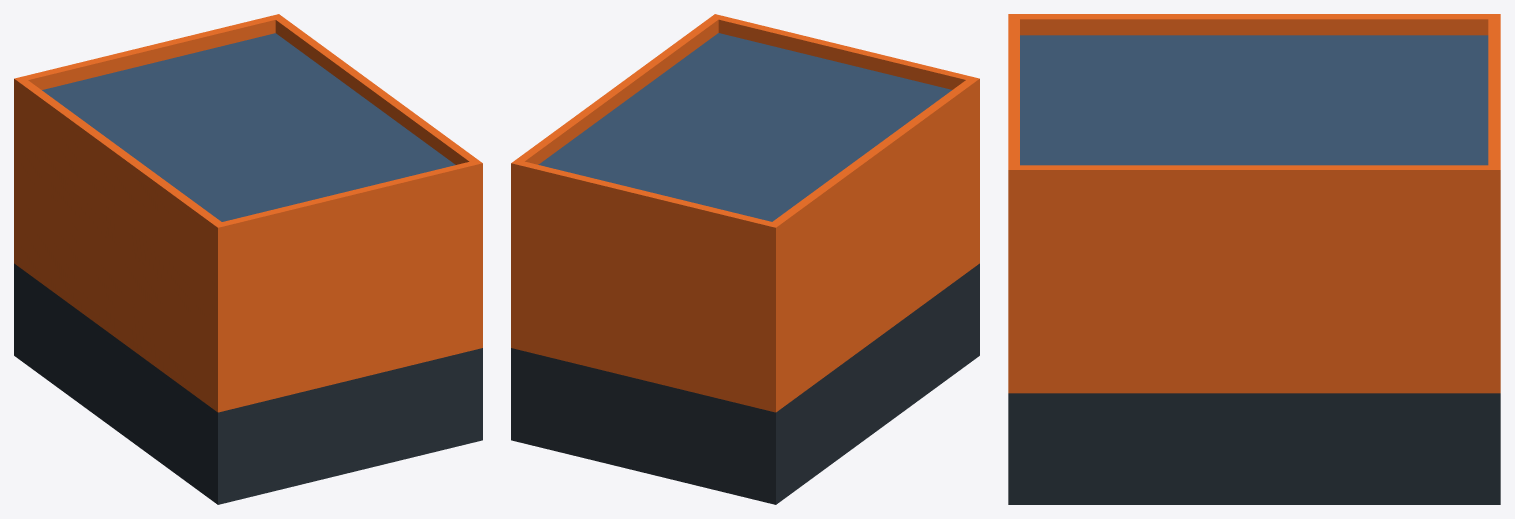
Rendered from Building_B.fbx.
3 renders of one model, left to right at view 1: azimuth 30°, elevation 25°; view 2: azimuth 150°, elevation 25°; view 3: azimuth 270°, elevation 25°, orthographic. The views are drawn at different scales.
Visible parts, largest first — view 1: Building_B; view 2: Building_B; view 3: Building_B.
Boxes of the visible parts, left/top/right/bottom form: Building_B: left=14, top=14, right=482, bottom=504; Building_B: left=511, top=14, right=979, bottom=504; Building_B: left=1008, top=14, right=1500, bottom=504.
Bounding box in the file's own units: 600 × 600 × 800.
